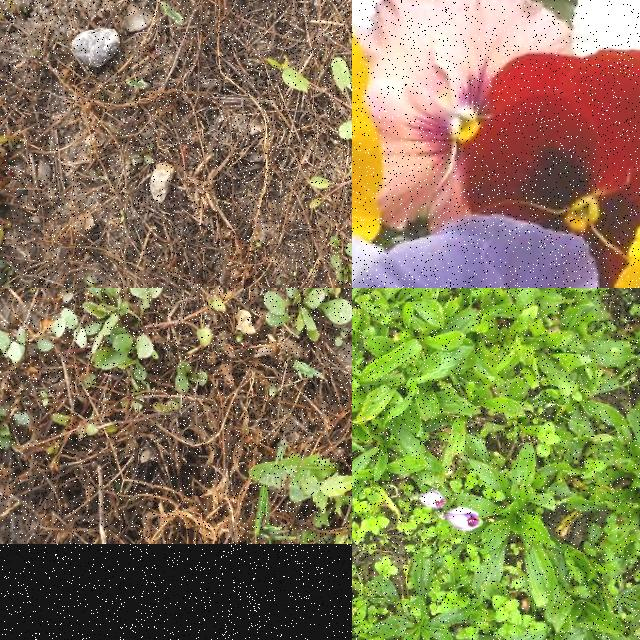flower: (446, 508, 484, 530), (419, 491, 447, 509)
